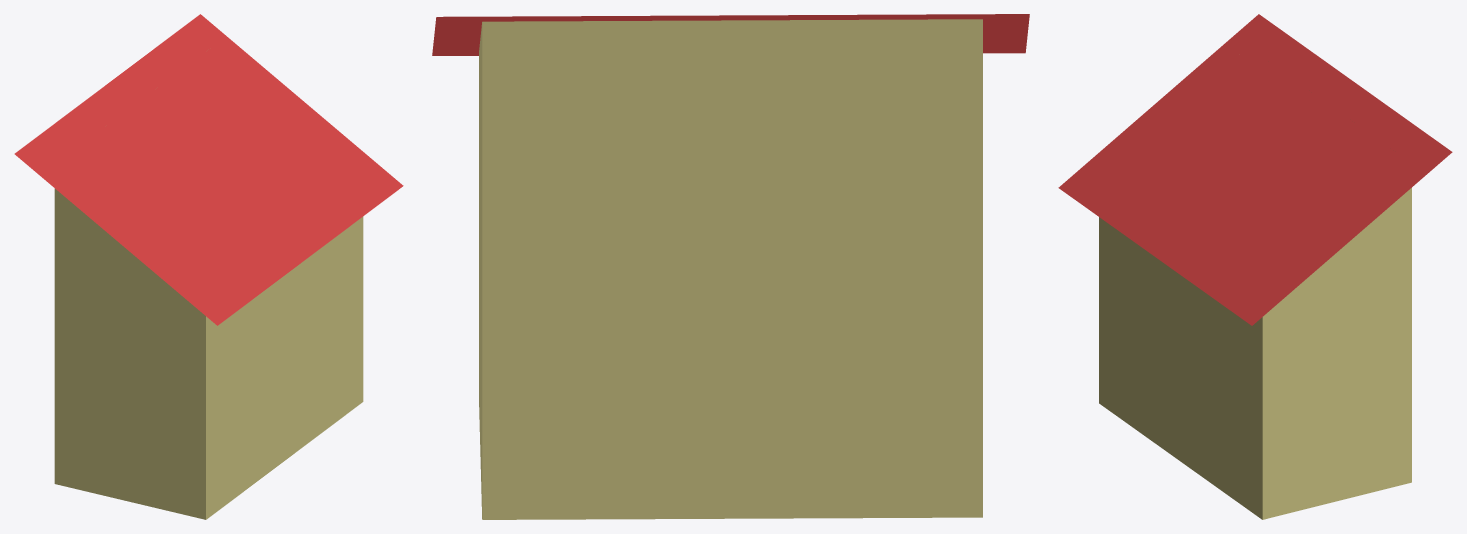
3 renders of one model, left to right at view 1: azimuth 30°, elevation 25°; view 2: azimuth 150°, elevation 25°; view 3: azimuth 270°, elevation 25°, orthographic. The views are drawn at different scales.
Visible parts, largest first — view 1: group_5, group_3, group_4; view 2: group_5, group_3, group_4; view 3: group_5, group_3, group_4.
Boxes of the visible parts, x1,y1,x2,y2 form: group_5: (54, 188, 363, 519); group_3: (15, 47, 403, 325); group_4: (14, 14, 401, 191); group_5: (479, 19, 982, 519); group_3: (432, 14, 1028, 55); group_4: (433, 14, 1029, 55); group_5: (1099, 188, 1411, 519); group_3: (1058, 14, 1447, 325); group_4: (1217, 14, 1452, 325).
Size of the model in its own units: 14.99 by 13.26 by 12.42.
